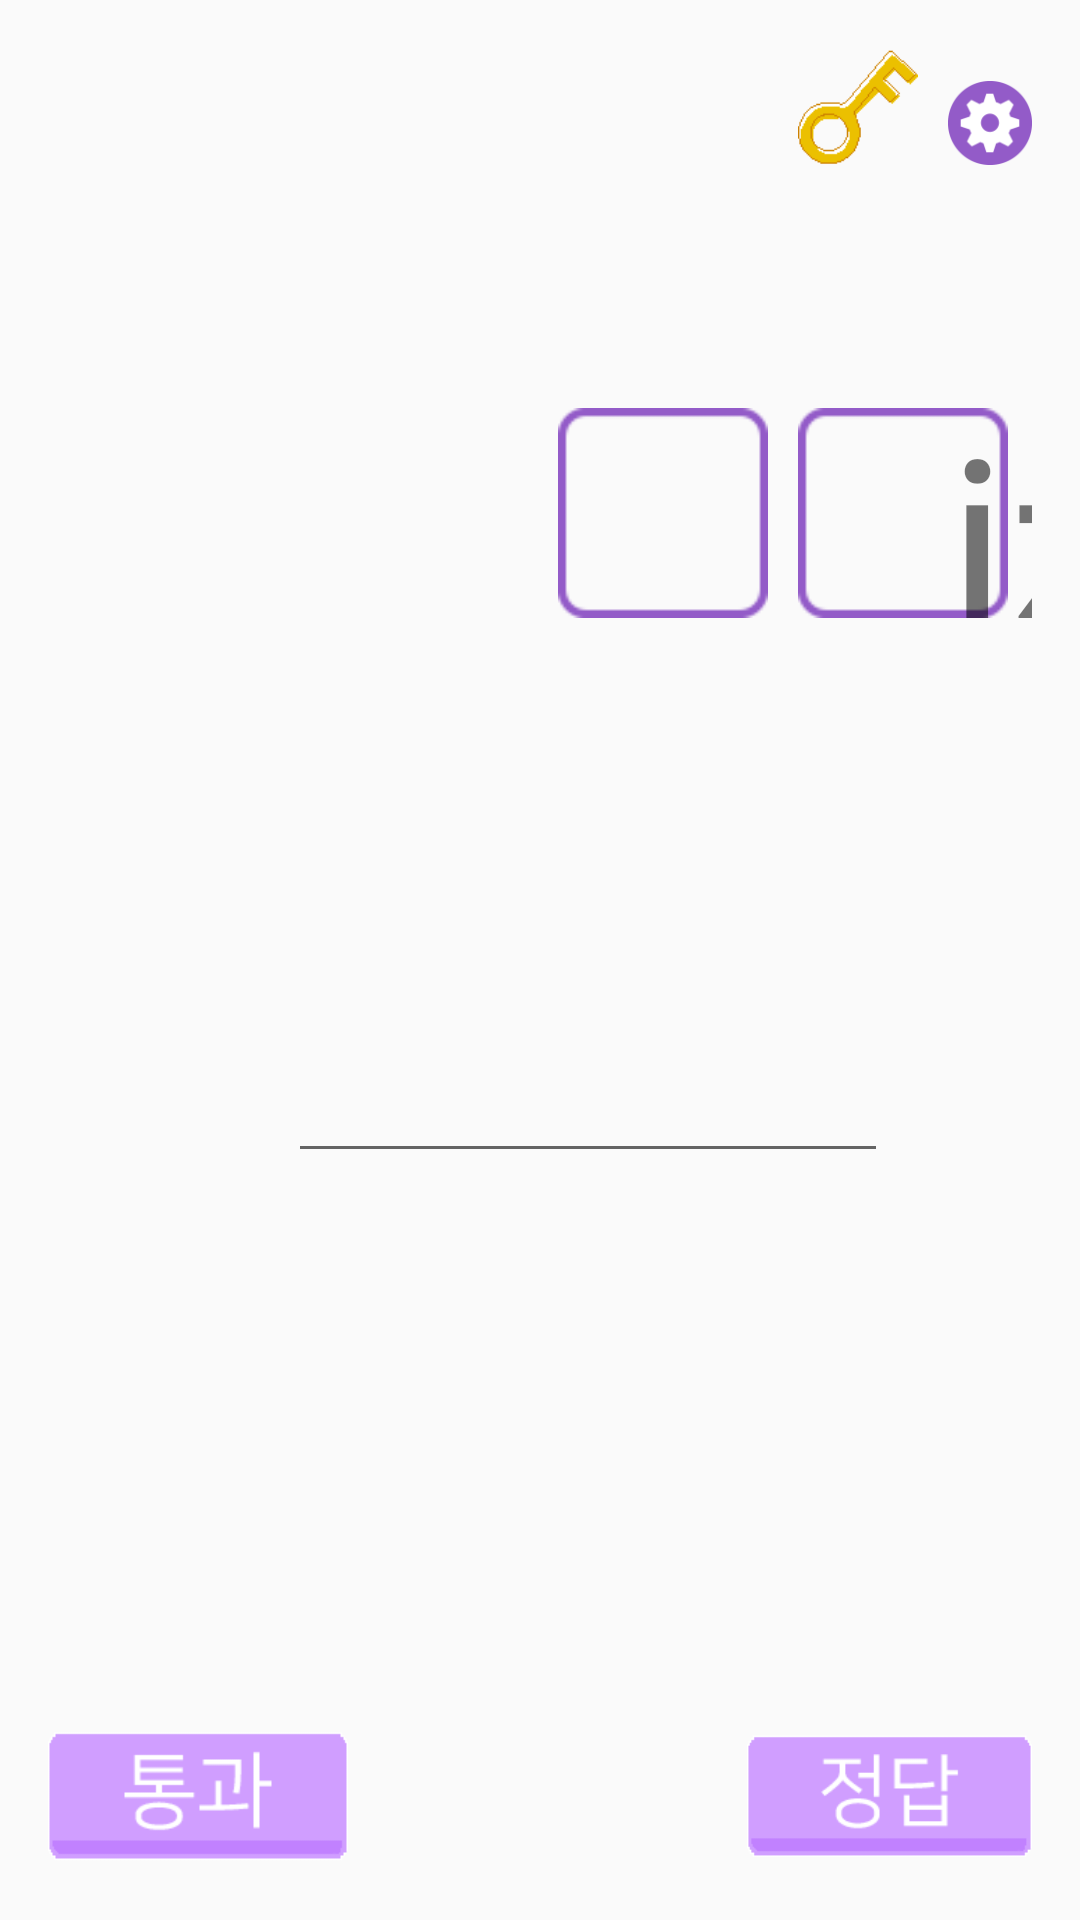

Icons on this 1080px×1920px Android screen, each with the point to tap as point (x, y):
environment setting: point (990, 123)
key: point (858, 107)
